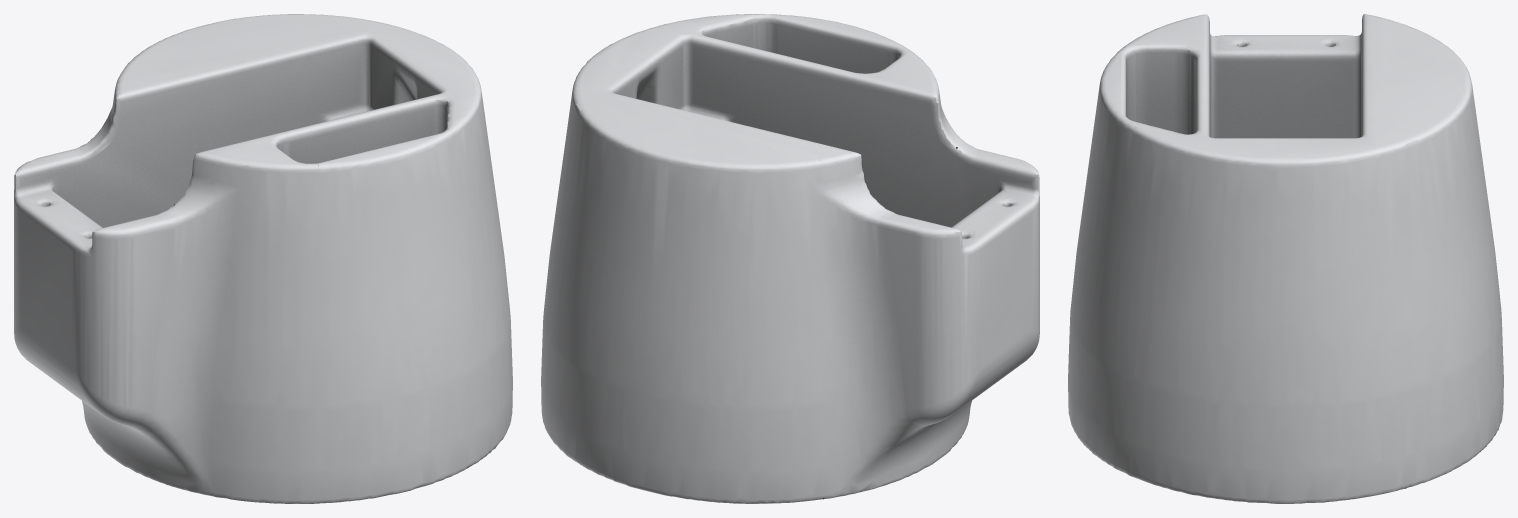
File: right_bisecp_upper.glb
The picture shows the model from 3 angles, left to right: view 1: azimuth 30°, elevation 25°; view 2: azimuth 150°, elevation 25°; view 3: azimuth 270°, elevation 25°; orthographic projection.
Visible parts, largest first — view 1: right_bisecp_upper; view 2: right_bisecp_upper; view 3: right_bisecp_upper.
Part boxes in pixels (x1,y1,x2,y2): right_bisecp_upper: [14, 14, 512, 503]; right_bisecp_upper: [541, 14, 1039, 503]; right_bisecp_upper: [1068, 14, 1503, 503].
Bounding box in the file's own units: 0.0888 × 0.0632 × 0.0755.
1 material, 1 textured.
